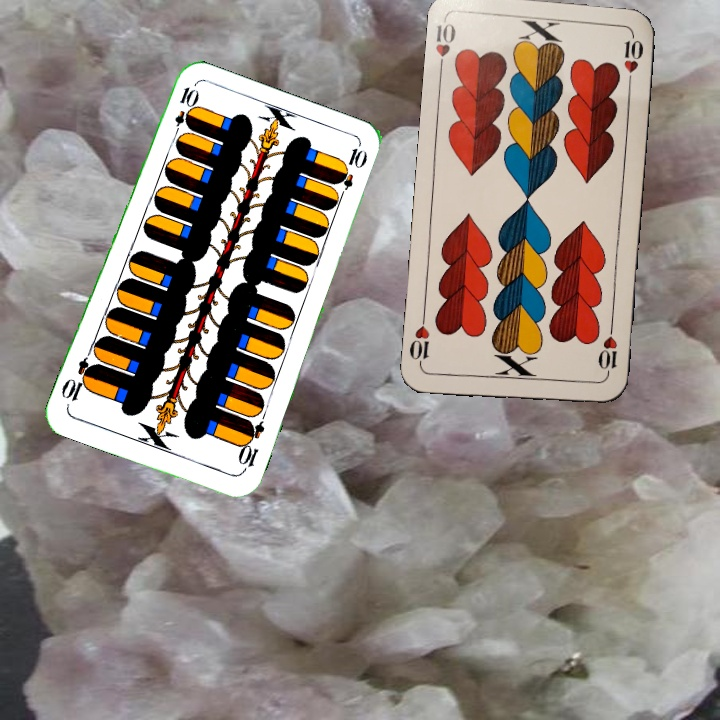E10: (234, 417, 268, 475), (169, 82, 197, 141)
H10: (432, 17, 458, 77), (594, 321, 620, 380)
